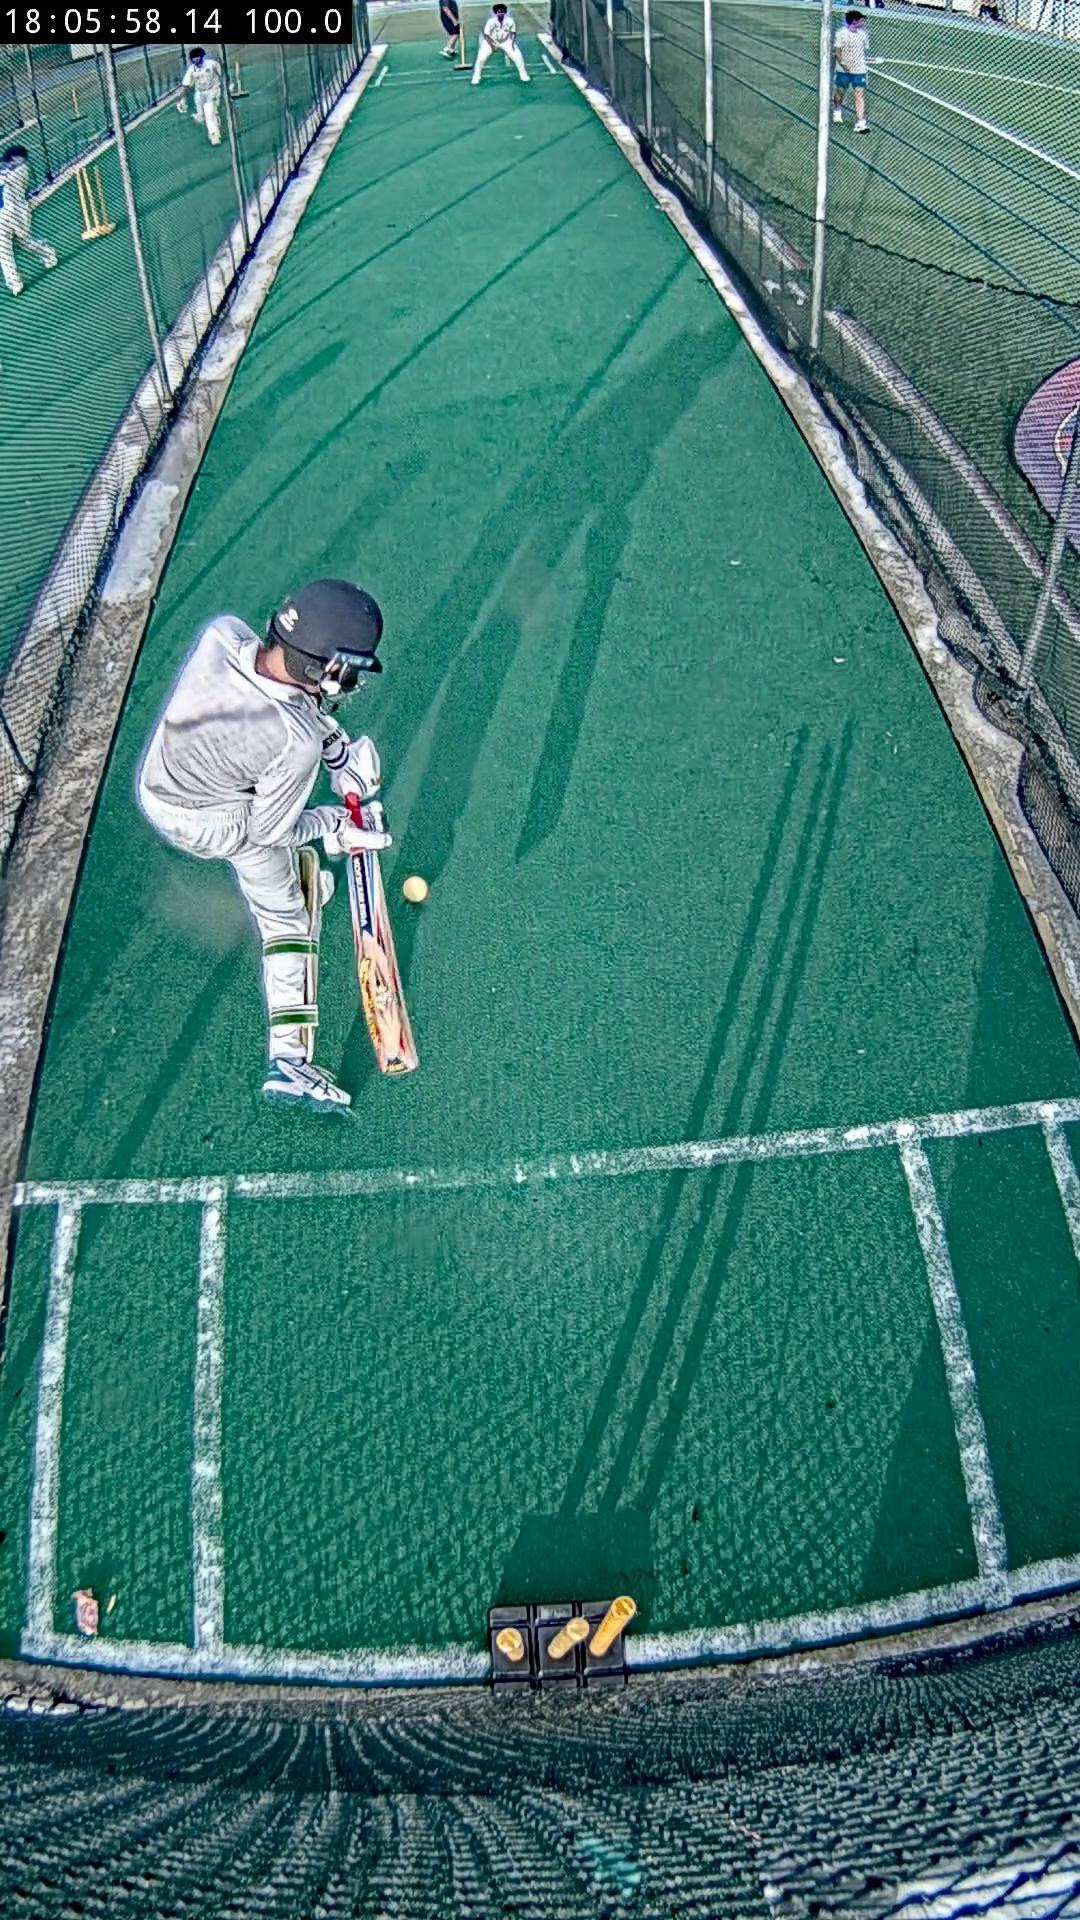ball: (401, 874, 427, 903)
bat: (348, 852, 419, 1076)
gloves: (323, 735, 382, 803), (324, 802, 388, 852)
helmet: (266, 578, 382, 702)
pads: (297, 848, 334, 1000)
stumps: (488, 1594, 637, 1688)
